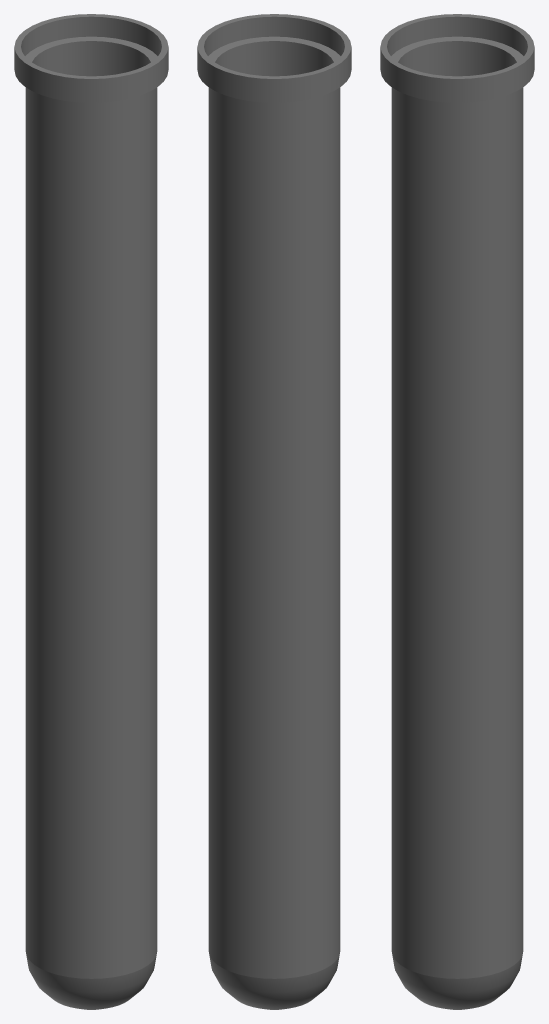
Rendered from needleCoverNEW.fbx.
3 views of the same model, side by side, from view 1: azimuth 30°, elevation 25°; view 2: azimuth 150°, elevation 25°; view 3: azimuth 270°, elevation 25° (orthographic).
Visible parts, largest first — view 1: Boole_1; view 2: Boole_1; view 3: Boole_1.
Part boxes in pixels (box(x1,y1,x2,y2)): Boole_1: box(14, 14, 168, 1009); Boole_1: box(197, 14, 351, 1009); Boole_1: box(380, 14, 534, 1009).
Bounding box in the file's own units: 1.17 × 8 × 1.17.
